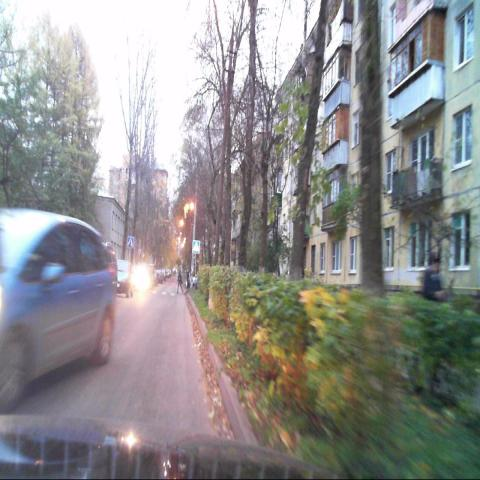5_19_1: (192, 240, 200, 253)
